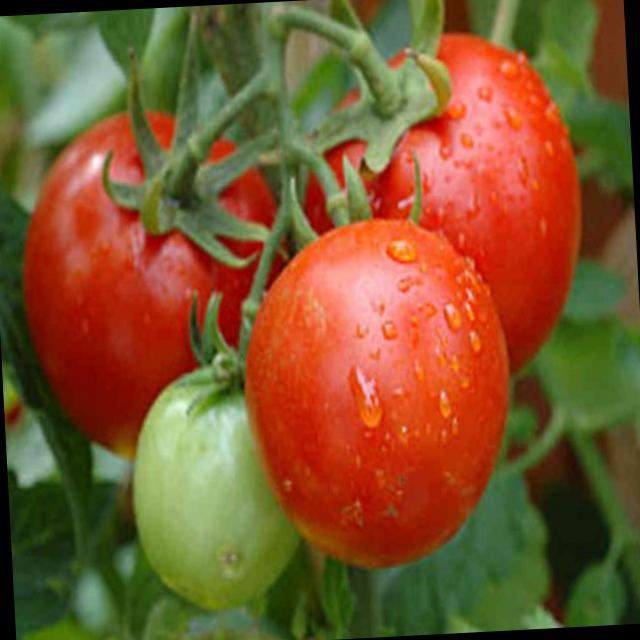TOMATO: (238, 215, 532, 575), (301, 26, 589, 382), (5, 102, 278, 430), (127, 363, 287, 619)
